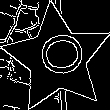O_W: (29, 34, 85, 83)
